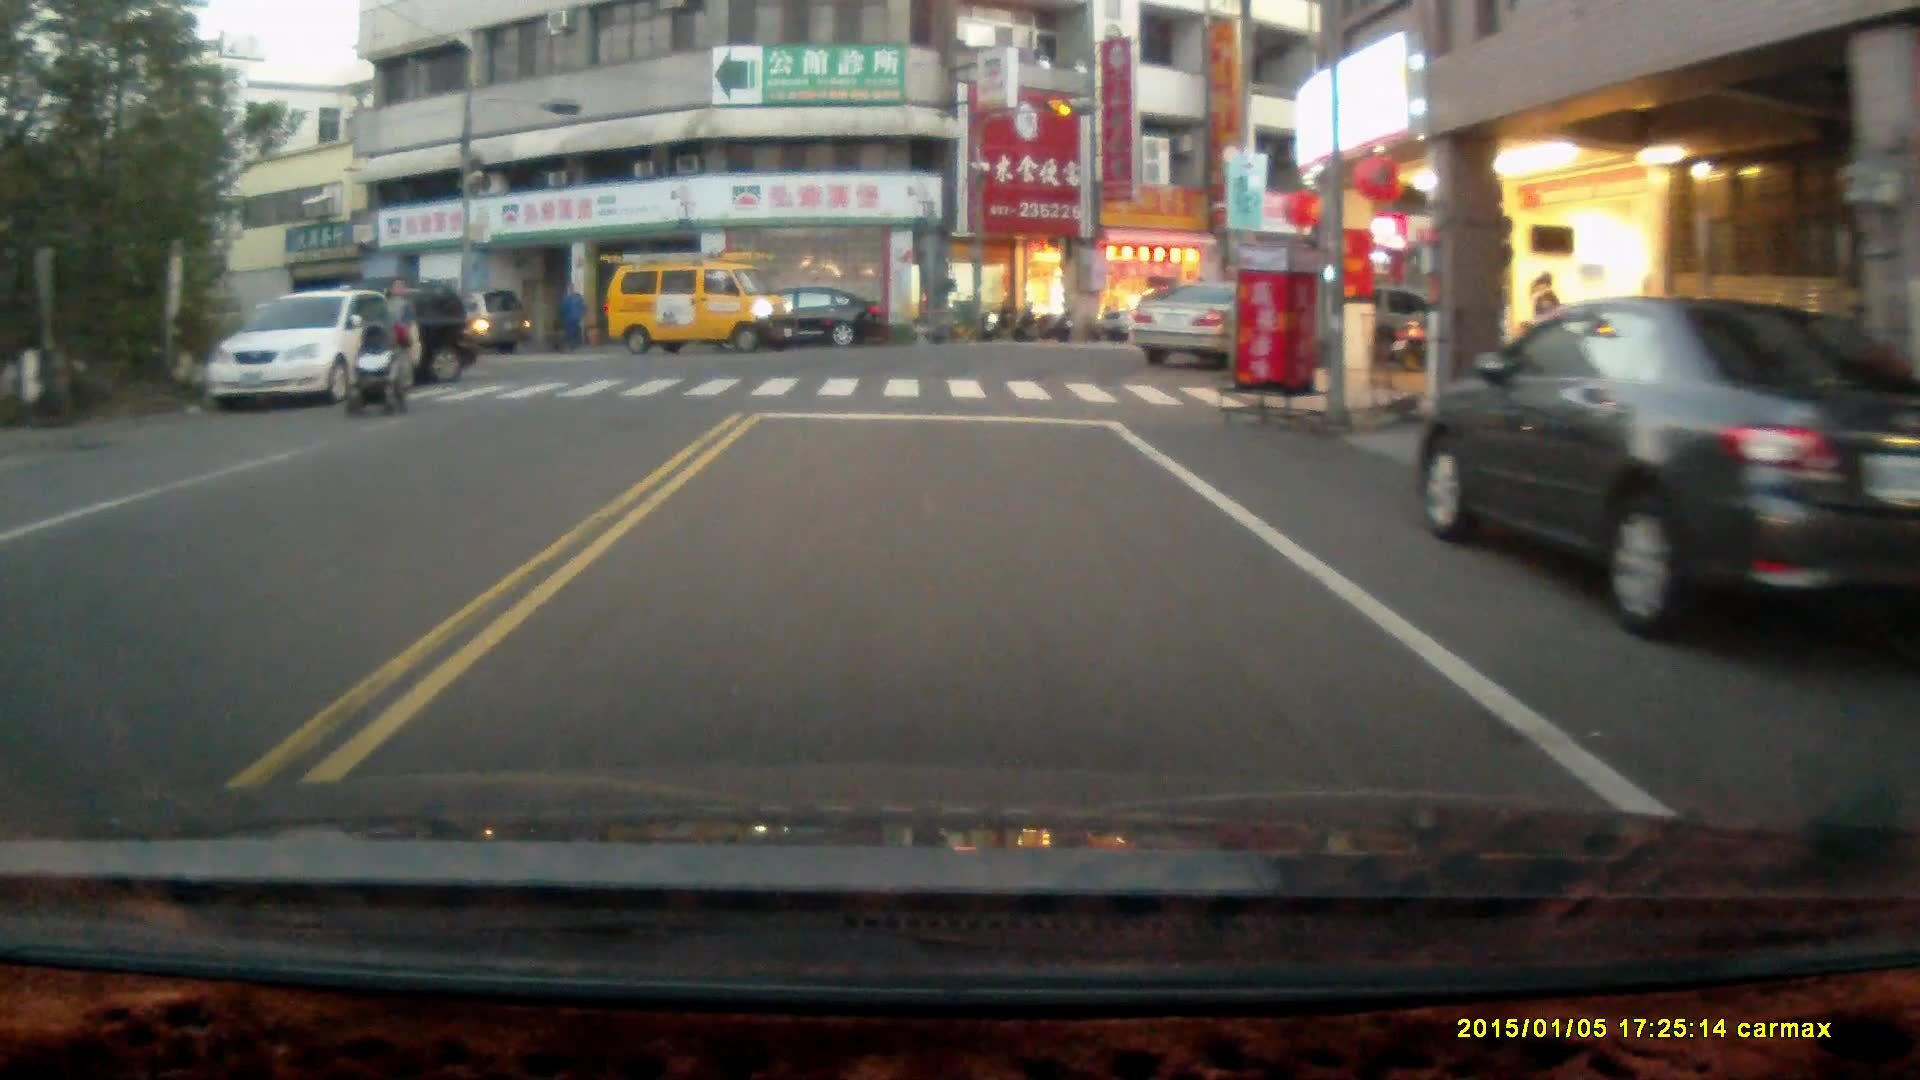pedestrian: (372, 274, 415, 400), (1534, 269, 1567, 389), (555, 279, 581, 351)
rider: (339, 319, 406, 419)
vehicle: (1412, 299, 1920, 650), (207, 292, 416, 416), (260, 273, 477, 383), (605, 251, 793, 354), (726, 279, 885, 349), (403, 286, 538, 364), (1129, 285, 1242, 372)
